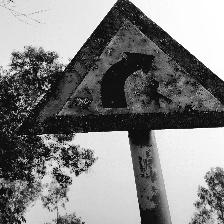Right-turn: (20, 0, 223, 135)
